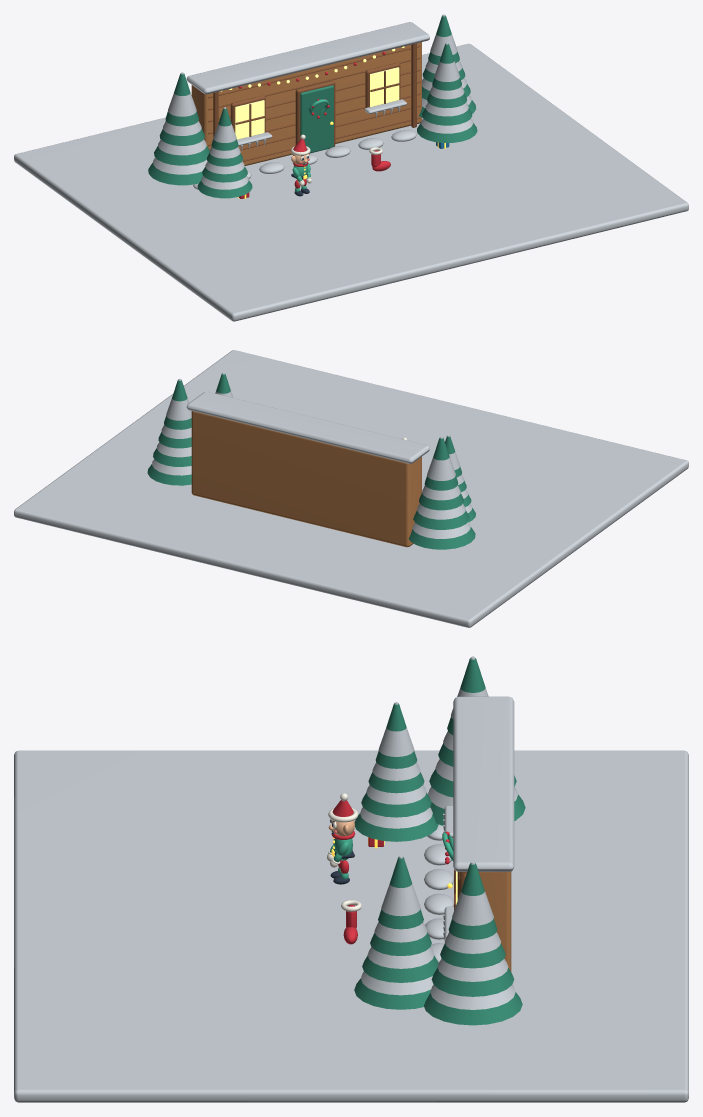
File: chapter-04.glb
3 views of the same model, one above another, from view 1: azimuth 30°, elevation 25°; view 2: azimuth 150°, elevation 25°; view 3: azimuth 270°, elevation 25° (orthographic). The views are drawn at different scales.
Parts seen in each view (by area): view 1: Schneeboden, Werkstatt, Schneegesims, Wichteltür, Warmes Fenster, Warmes Fenster.001, Tannenzweig.004, Tannenzweig.008, Tannenzweig.009, Türrahmen, Tannenzweig.011, Schnee.011 (+7 smaller); view 2: Schneeboden, Werkstatt, Schneegesims, Tannenzweig.008, Tannenzweig.009, Tannenzweig.011, Schnee.008, Schnee.011, Tannenzweig.015, Tannenzweig.012, Tannenzweig.010, Schnee.009 (+1 smaller); view 3: Schneeboden, Schneegesims, Werkstatt, Tannenzweig.012, Tannenzweig.013, Tannenzweig.015, Tannenzweig, Schnee.012, Tannenzweig.005, Tannenzweig.004, Schnee.015, Tannenzweig.007 (+15 smaller).
Boxes of the visible parts, x1=… form: Schneeboden: x1=14, y1=43, x2=688, y2=321; Werkstatt: x1=191, y1=42, x2=421, y2=165; Schneegesims: x1=186, y1=22, x2=429, y2=94; Wichteltür: x1=300, y1=85, x2=333, y2=153; Warmes Fenster: x1=235, y1=100, x2=264, y2=139; Warmes Fenster.001: x1=370, y1=67, x2=399, y2=106; Tannenzweig.004: x1=417, y1=122, x2=477, y2=142; Tannenzweig.008: x1=148, y1=163, x2=202, y2=185; Tannenzweig.009: x1=154, y1=146, x2=209, y2=165; Türrahmen: x1=295, y1=81, x2=335, y2=146; Tannenzweig.011: x1=165, y1=73, x2=198, y2=126; Schnee.011: x1=168, y1=72, x2=196, y2=116; Schneeboden: x1=14, y1=350, x2=688, y2=627; Werkstatt: x1=191, y1=411, x2=421, y2=547; Schneegesims: x1=186, y1=391, x2=429, y2=463; Tannenzweig.008: x1=408, y1=527, x2=475, y2=549; Tannenzweig.009: x1=413, y1=510, x2=469, y2=529; Tannenzweig.011: x1=424, y1=437, x2=458, y2=490; Schnee.008: x1=412, y1=522, x2=470, y2=538; Schnee.011: x1=427, y1=436, x2=455, y2=480; Tannenzweig.015: x1=164, y1=380, x2=191, y2=429; Tannenzweig.012: x1=147, y1=464, x2=191, y2=485; Tannenzweig.010: x1=419, y1=493, x2=463, y2=510; Schnee.009: x1=417, y1=504, x2=465, y2=519; Schneeboden: x1=14, y1=750, x2=688, y2=1102; Schneegesims: x1=453, y1=696, x2=514, y2=871; Werkstatt: x1=466, y1=871, x2=511, y2=971; Tannenzweig.012: x1=424, y1=992, x2=522, y2=1025; Tannenzweig.013: x1=431, y1=968, x2=514, y2=996; Tannenzweig.015: x1=448, y1=863, x2=497, y2=939; Tannenzweig: x1=354, y1=813, x2=438, y2=841; Schnee.012: x1=430, y1=985, x2=515, y2=1009; Tannenzweig.005: x1=362, y1=955, x2=438, y2=982; Tannenzweig.004: x1=354, y1=978, x2=430, y2=1009; Schnee.015: x1=452, y1=861, x2=493, y2=925; Tannenzweig.007: x1=378, y1=857, x2=423, y2=929.
Size of the model in its own units: 18 by 4.39 by 15.
